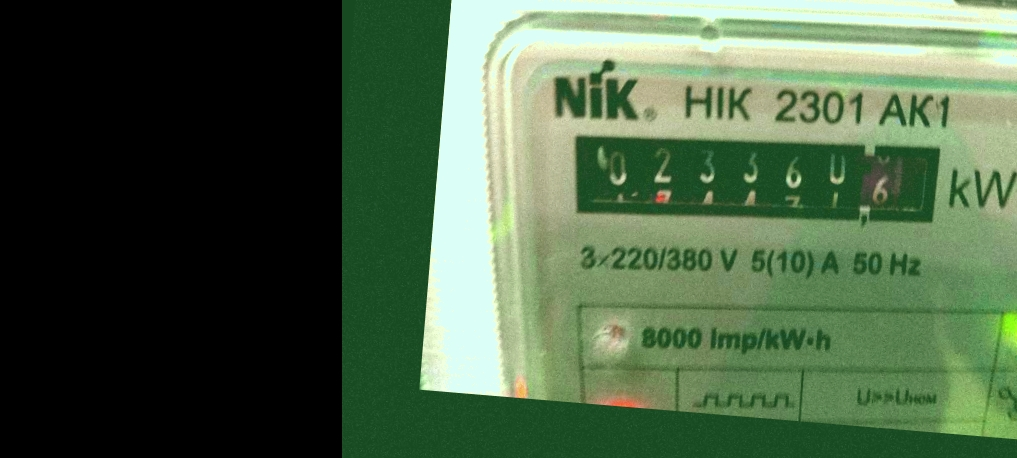0: (604, 145, 632, 189), (825, 148, 851, 187)
2: (648, 142, 677, 184)
3: (695, 144, 719, 186), (737, 146, 762, 186)
6: (779, 149, 808, 192), (870, 171, 894, 208)
screen: (547, 101, 956, 252)
